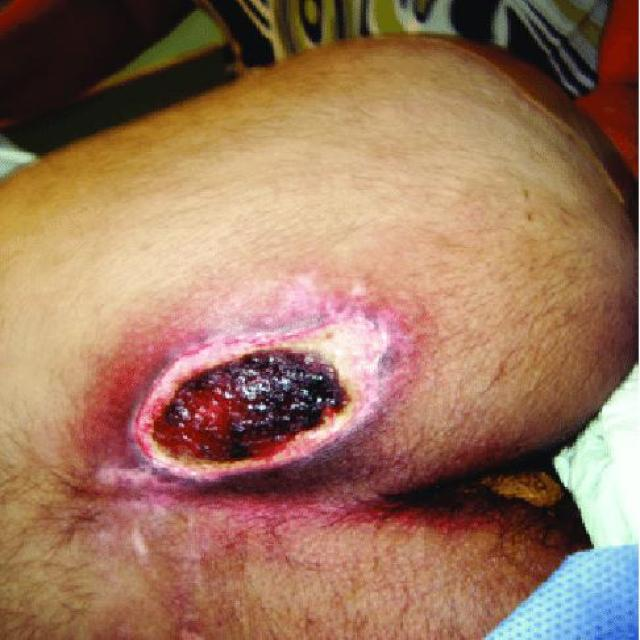Unstageable: (135, 310, 392, 477)
